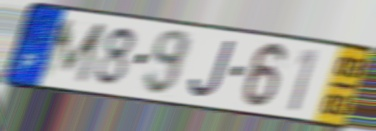1: (288, 48, 321, 115)
6: (240, 40, 290, 111)
8: (92, 25, 138, 88)
9: (143, 27, 191, 99)
J: (187, 39, 238, 101)
M: (37, 18, 109, 86)
